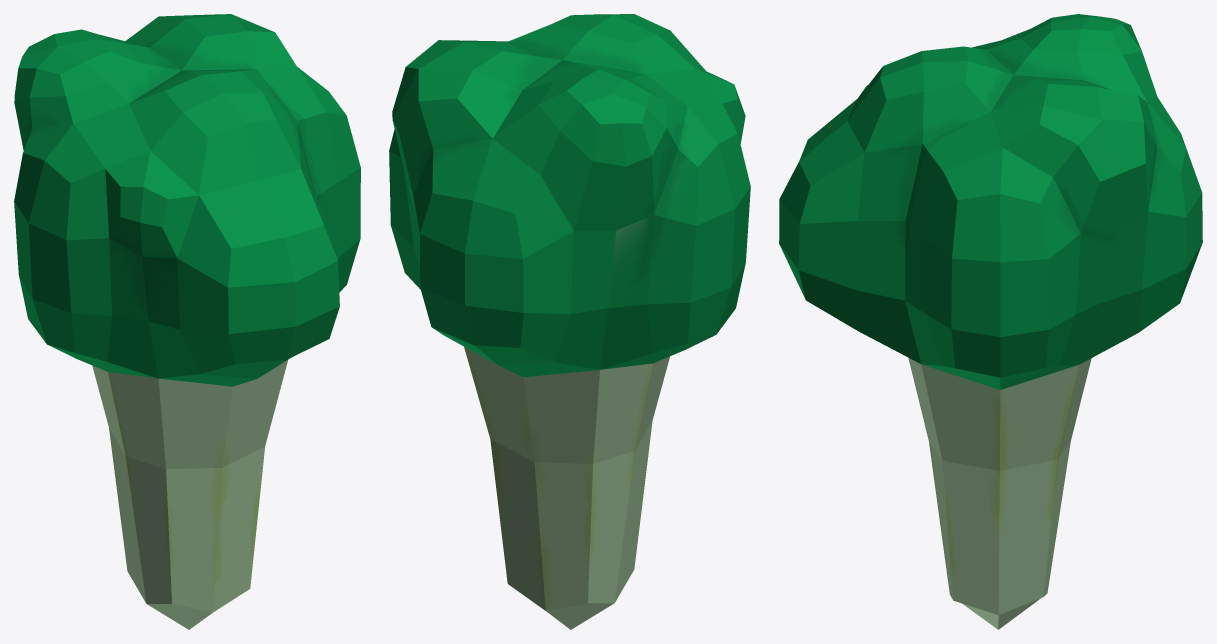
Rendered from minichef_ingrediente_brocoli.fbx.
3 views of the same model, side by side, from view 1: azimuth 30°, elevation 25°; view 2: azimuth 150°, elevation 25°; view 3: azimuth 270°, elevation 25° (orthographic). The views are drawn at different scales.
Parts seen in each view (by area): view 1: brocoli; view 2: brocoli; view 3: brocoli.
Boxes of the visible parts, x1=… form: brocoli: x1=14, y1=14, x2=360, y2=629; brocoli: x1=389, y1=14, x2=750, y2=629; brocoli: x1=779, y1=14, x2=1202, y2=629.
Bounding box in the file's own units: 163 × 279 × 186.
